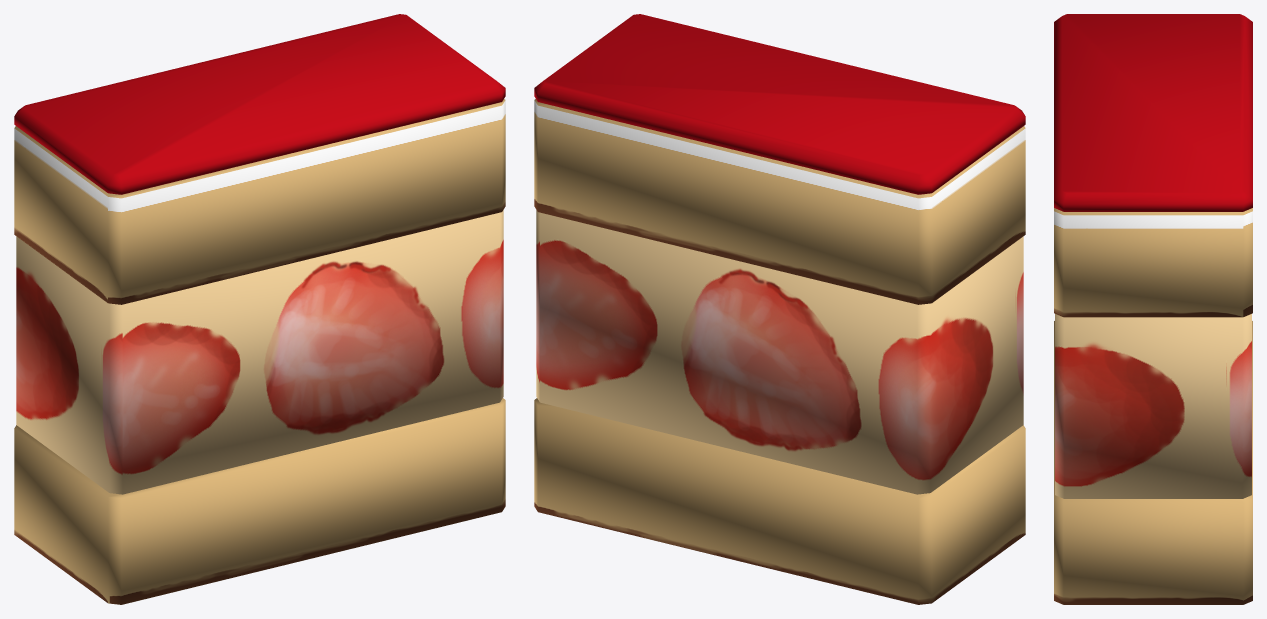
The model's file is asmrCake1.fbx.
3 views of the same model, side by side, from view 1: azimuth 30°, elevation 25°; view 2: azimuth 150°, elevation 25°; view 3: azimuth 270°, elevation 25° (orthographic). The views are drawn at different scales.
Visible parts, largest first — view 1: cake.003, cream, cake.2; view 2: cake.003, cream, cake.2; view 3: cake.003, cake.2, cream.
Boxes of the visible parts, x1,y1,x2,y2 form: cake.003: (14, 99, 505, 604); cream: (16, 210, 503, 494); cake.2: (14, 14, 505, 194); cake.003: (534, 99, 1025, 604); cream: (536, 210, 1023, 494); cake.2: (534, 14, 1025, 194); cake.003: (1054, 208, 1252, 604); cake.2: (1054, 14, 1252, 211); cream: (1055, 314, 1251, 498).
Bounding box in the file's own units: 4 × 4.1 × 1.81.
Materials: 3 (2 with a texture image).
